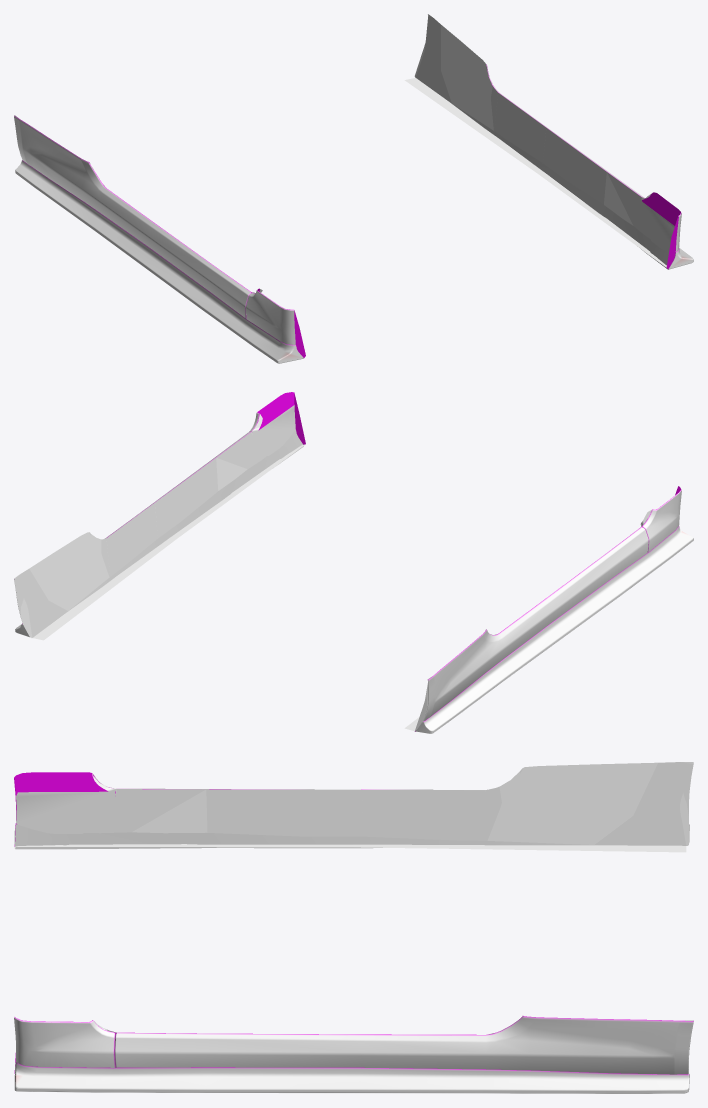
The model's file is Car_Nissan_SkylineGTRVspecR34_1999_Skirts_SetD_AltA.fbx.
3 renders of one model, top to bottom at view 1: azimuth 30°, elevation 25°; view 2: azimuth 150°, elevation 25°; view 3: azimuth 270°, elevation 25°, orthographic. The views are drawn at different scales.
Parts seen in each view (by area): view 1: Skirts 6; view 2: Skirts 6; view 3: Skirts 6.
Part boxes in pixels (x1,y1,x2,y2): Skirts 6: (14,14,693,363); Skirts 6: (14,392,693,733); Skirts 6: (14,762,693,1093).
Size of the model in its own units: 1.75 by 0.2321 by 1.92.
